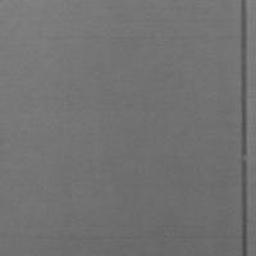Welding line: (238, 0, 250, 255)
